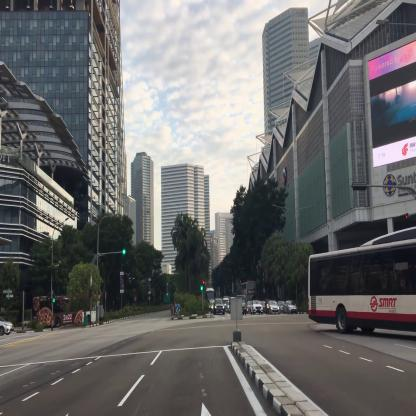green_traffic_light: (122, 250, 130, 254), (200, 281, 202, 290)
